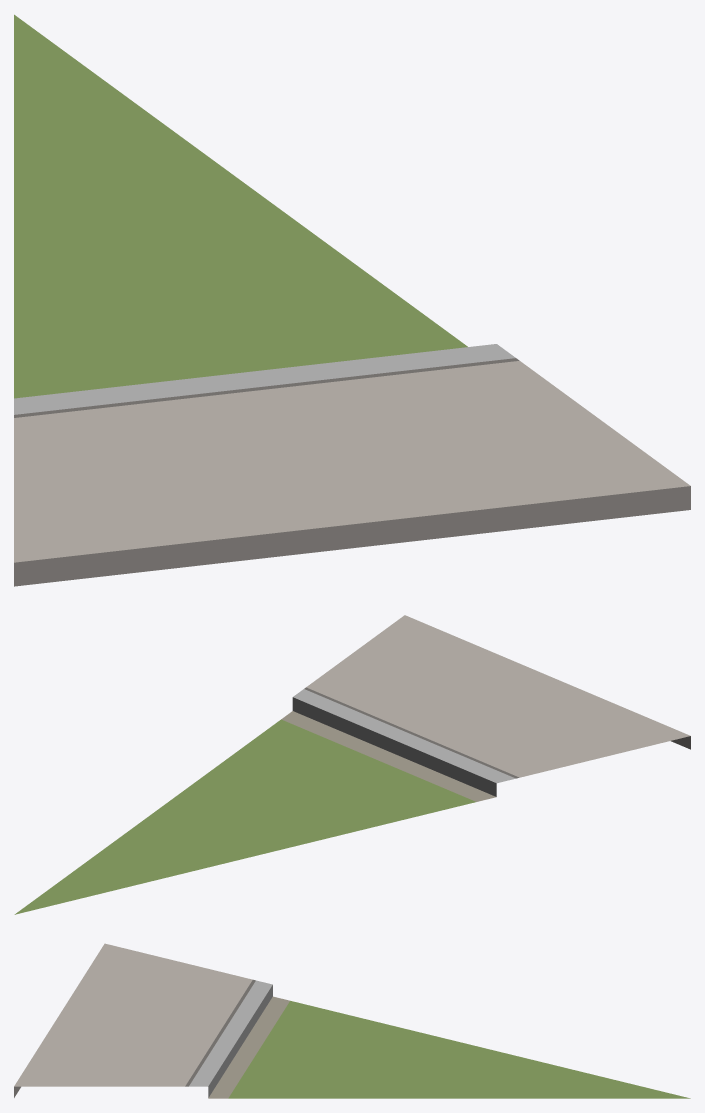
Rendered from SA_Env_Road_Corner_clear_dirt.fbx.
3 renders of one model, top to bottom at view 1: azimuth 30°, elevation 25°; view 2: azimuth 150°, elevation 25°; view 3: azimuth 270°, elevation 25°, orthographic. The views are drawn at different scales.
Parts seen in each view (by area): view 1: SA_Env_Road_Straight_clear_003; view 2: SA_Env_Road_Straight_clear_003; view 3: SA_Env_Road_Straight_clear_003.
Part boxes in pixels (bbox=[...]): SA_Env_Road_Straight_clear_003: bbox=[14, 14, 690, 586]; SA_Env_Road_Straight_clear_003: bbox=[14, 615, 690, 914]; SA_Env_Road_Straight_clear_003: bbox=[14, 943, 690, 1098].
Bounding box in the file's own units: 12.7 × 0.4948 × 25.4.
Materials: 1 (1 with a texture image).
